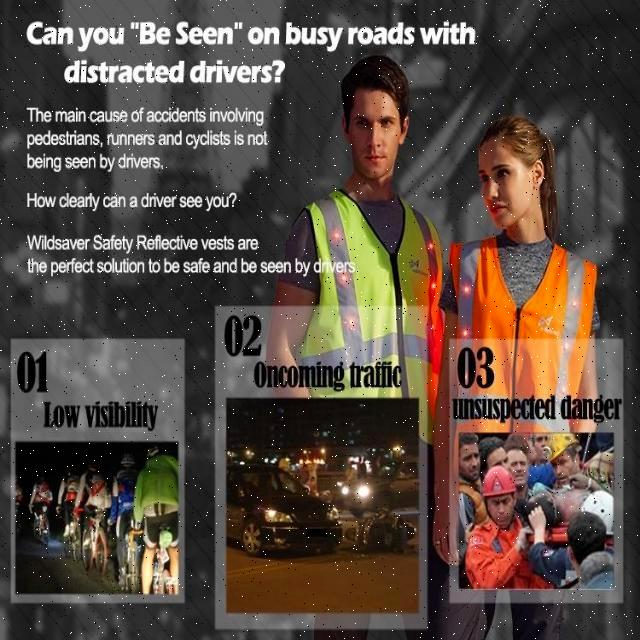Vest: (306, 199, 440, 401), (456, 243, 591, 408)
